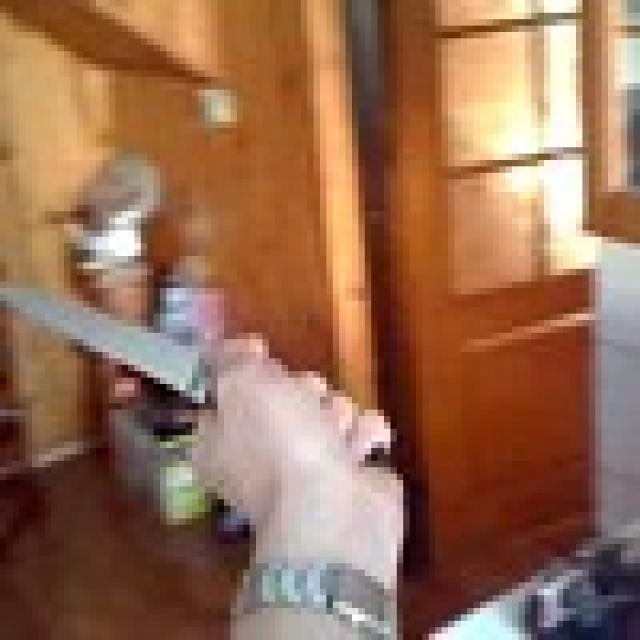Knife: (0, 282, 224, 416)
